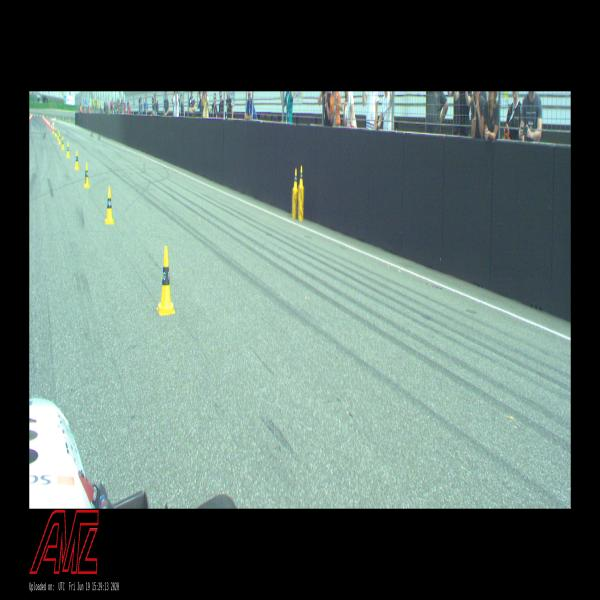large_orange_cone: (52, 118, 55, 132)
yellow_cone: (156, 245, 176, 315), (105, 186, 114, 224), (84, 162, 90, 188), (298, 165, 304, 189), (292, 168, 298, 191), (74, 150, 80, 170), (66, 141, 70, 158), (61, 136, 65, 150), (58, 132, 61, 145), (55, 127, 57, 137), (57, 130, 59, 140), (53, 126, 54, 134)
